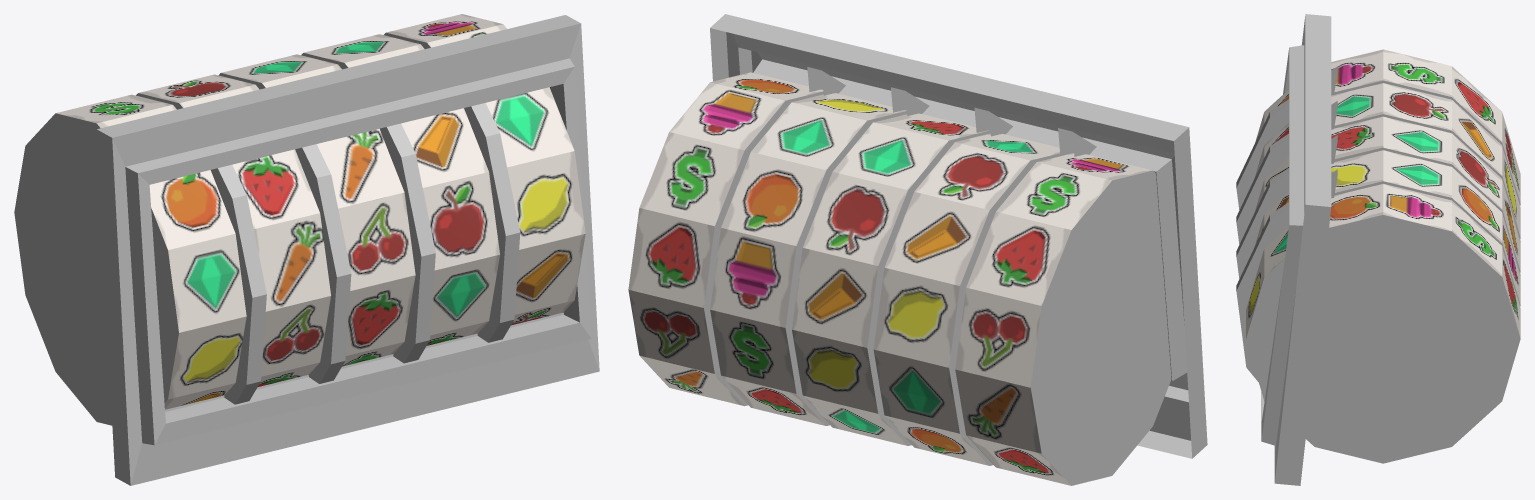
File: SM_Prop_Slot_Machine_03_Cylinder_Insert_01.fbx
The picture shows the model from 3 angles, left to right: view 1: azimuth 30°, elevation 25°; view 2: azimuth 150°, elevation 25°; view 3: azimuth 270°, elevation 25°; orthographic projection. The views are drawn at different scales.
Visible parts, largest first — view 1: SM_Prop_Slot_Machine_03_Cylinder_Insert_01, SM_Prop_Slot_Machine_03_Cylinder_01, SM_Prop_Slot_Machine_03_Cylinder_05, SM_Prop_Slot_Machine_03_Cylinder_04, SM_Prop_Slot_Machine_03_Cylinder_02, SM_Prop_Slot_Machine_03_Cylinder_03; view 2: SM_Prop_Slot_Machine_03_Cylinder_01, SM_Prop_Slot_Machine_03_Cylinder_Insert_01, SM_Prop_Slot_Machine_03_Cylinder_05, SM_Prop_Slot_Machine_03_Cylinder_03, SM_Prop_Slot_Machine_03_Cylinder_04, SM_Prop_Slot_Machine_03_Cylinder_02; view 3: SM_Prop_Slot_Machine_03_Cylinder_05, SM_Prop_Slot_Machine_03_Cylinder_Insert_01, SM_Prop_Slot_Machine_03_Cylinder_04, SM_Prop_Slot_Machine_03_Cylinder_03, SM_Prop_Slot_Machine_03_Cylinder_02, SM_Prop_Slot_Machine_03_Cylinder_01.
Part boxes in pixels (bbox=[...]): SM_Prop_Slot_Machine_03_Cylinder_Insert_01: bbox=[96, 15, 599, 485]; SM_Prop_Slot_Machine_03_Cylinder_01: bbox=[14, 94, 246, 425]; SM_Prop_Slot_Machine_03_Cylinder_05: bbox=[384, 14, 585, 325]; SM_Prop_Slot_Machine_03_Cylinder_04: bbox=[301, 34, 499, 345]; SM_Prop_Slot_Machine_03_Cylinder_02: bbox=[136, 74, 330, 386]; SM_Prop_Slot_Machine_03_Cylinder_03: bbox=[218, 54, 415, 366]; SM_Prop_Slot_Machine_03_Cylinder_01: bbox=[955, 153, 1171, 485]; SM_Prop_Slot_Machine_03_Cylinder_Insert_01: bbox=[710, 14, 1207, 458]; SM_Prop_Slot_Machine_03_Cylinder_05: bbox=[628, 72, 823, 406]; SM_Prop_Slot_Machine_03_Cylinder_03: bbox=[792, 113, 990, 445]; SM_Prop_Slot_Machine_03_Cylinder_04: bbox=[710, 93, 906, 425]; SM_Prop_Slot_Machine_03_Cylinder_02: bbox=[873, 133, 1060, 465]; SM_Prop_Slot_Machine_03_Cylinder_05: bbox=[1246, 184, 1520, 463]; SM_Prop_Slot_Machine_03_Cylinder_Insert_01: bbox=[1236, 14, 1337, 485]; SM_Prop_Slot_Machine_03_Cylinder_04: bbox=[1254, 150, 1520, 306]; SM_Prop_Slot_Machine_03_Cylinder_03: bbox=[1254, 116, 1520, 272]; SM_Prop_Slot_Machine_03_Cylinder_02: bbox=[1255, 83, 1520, 239]; SM_Prop_Slot_Machine_03_Cylinder_01: bbox=[1255, 49, 1520, 205].
Size of the model in its own units: 64.37 by 44.25 by 40.53.
